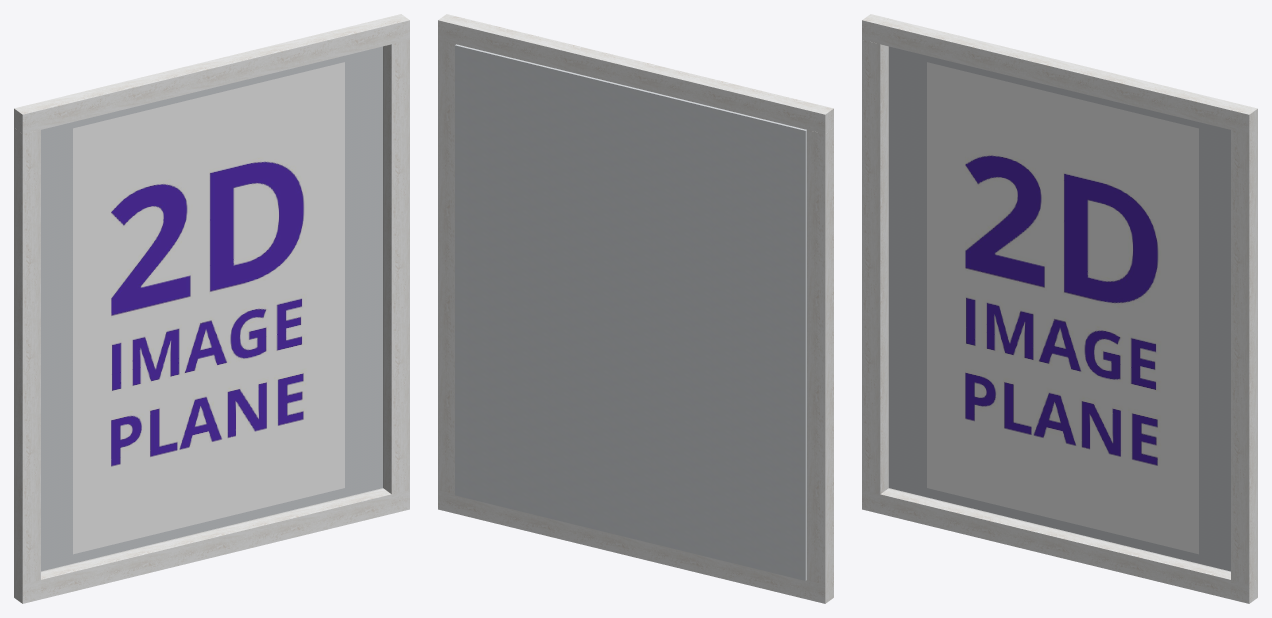
Rendered from ProjectName.gltf.
3 renders of one model, left to right at view 1: azimuth 30°, elevation 25°; view 2: azimuth 150°, elevation 25°; view 3: azimuth 330°, elevation 25°, orthographic.
Visible parts, largest first — view 1: Image_Plane, Mesh_2, Mesh_5, Mesh_7, Mesh_3, Mesh_3.001, Mesh_10, Mesh_9.002, Mesh_9; view 2: Mesh_2, Mesh_5, Mesh_3, Mesh_7, Mesh_3.001, Mesh_10, Mesh_9.002, Mesh_9; view 3: Image_Plane, Mesh_2, Mesh_7, Mesh_5, Mesh_3, Mesh_3.001, Mesh_9, Mesh_10.002, Mesh_10.
Part boxes in pixels (bbox=[...]): Image_Plane: bbox=[73, 62, 344, 554]; Mesh_2: bbox=[41, 46, 382, 571]; Mesh_5: bbox=[14, 128, 40, 584]; Mesh_7: bbox=[383, 40, 409, 494]; Mesh_3: bbox=[33, 18, 391, 129]; Mesh_3.001: bbox=[41, 488, 391, 599]; Mesh_10: bbox=[14, 104, 40, 134]; Mesh_9.002: bbox=[14, 578, 40, 603]; Mesh_9: bbox=[383, 14, 409, 43]; Mesh_2: bbox=[455, 44, 806, 580]; Mesh_5: bbox=[807, 128, 833, 584]; Mesh_3: bbox=[456, 18, 814, 129]; Mesh_7: bbox=[438, 40, 455, 493]; Mesh_3.001: bbox=[456, 496, 806, 599]; Mesh_10: bbox=[807, 104, 833, 134]; Mesh_9.002: bbox=[807, 578, 833, 603]; Mesh_9: bbox=[438, 14, 464, 43]; Image_Plane: bbox=[927, 62, 1198, 554]; Mesh_2: bbox=[889, 46, 1230, 571]; Mesh_7: bbox=[1231, 128, 1257, 584]; Mesh_5: bbox=[862, 40, 888, 494]; Mesh_3: bbox=[880, 18, 1239, 129]; Mesh_3.001: bbox=[880, 488, 1230, 599]; Mesh_9: bbox=[1231, 104, 1257, 134]; Mesh_10.002: bbox=[1231, 578, 1257, 603]; Mesh_10: bbox=[862, 14, 888, 43].
Bounding box in the file's own units: 0.7807 × 0.9424 × 0.035.
Materials: 11 (10 with a texture image).
